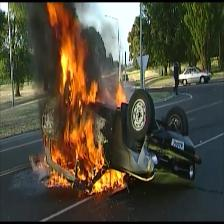fire: (44, 1, 137, 204)
smoke: (85, 4, 134, 109), (10, 1, 56, 90)
